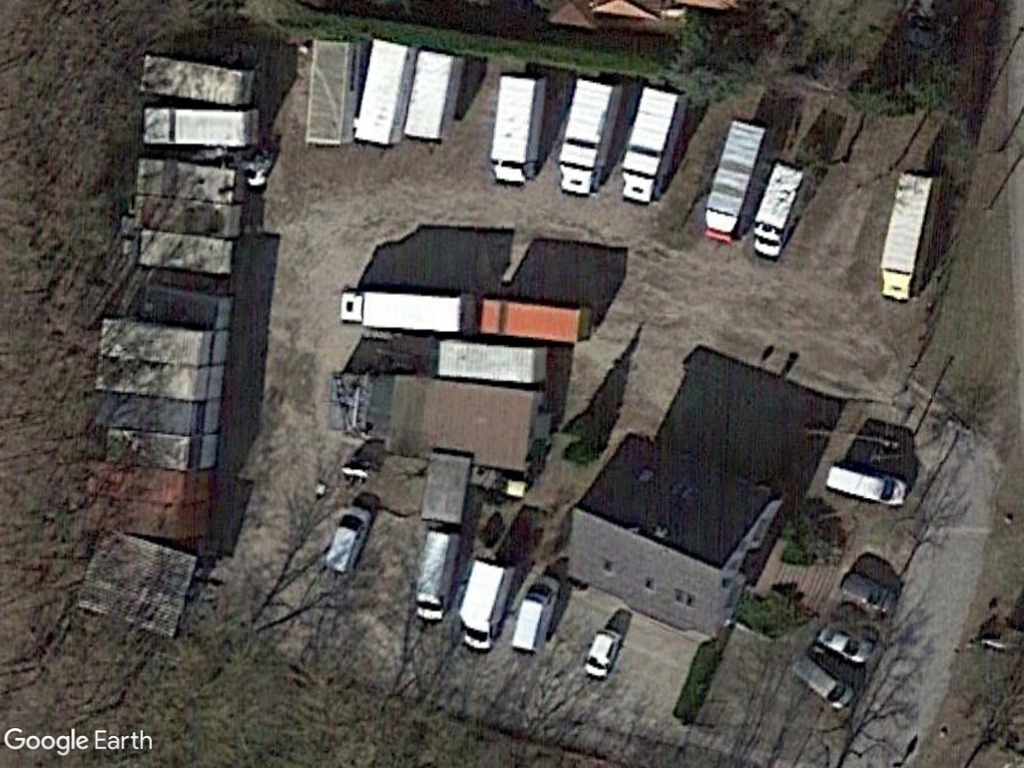car: (577, 626, 626, 686), (814, 623, 875, 668)
longvehicle: (467, 293, 604, 345), (430, 336, 556, 383)
truck: (694, 117, 779, 249), (872, 168, 950, 304), (614, 83, 693, 209), (556, 71, 627, 205), (331, 281, 477, 336), (485, 68, 550, 189), (749, 158, 816, 262), (455, 554, 519, 660), (408, 530, 466, 632)
van: (504, 573, 565, 658), (821, 458, 912, 512), (316, 498, 378, 577)
